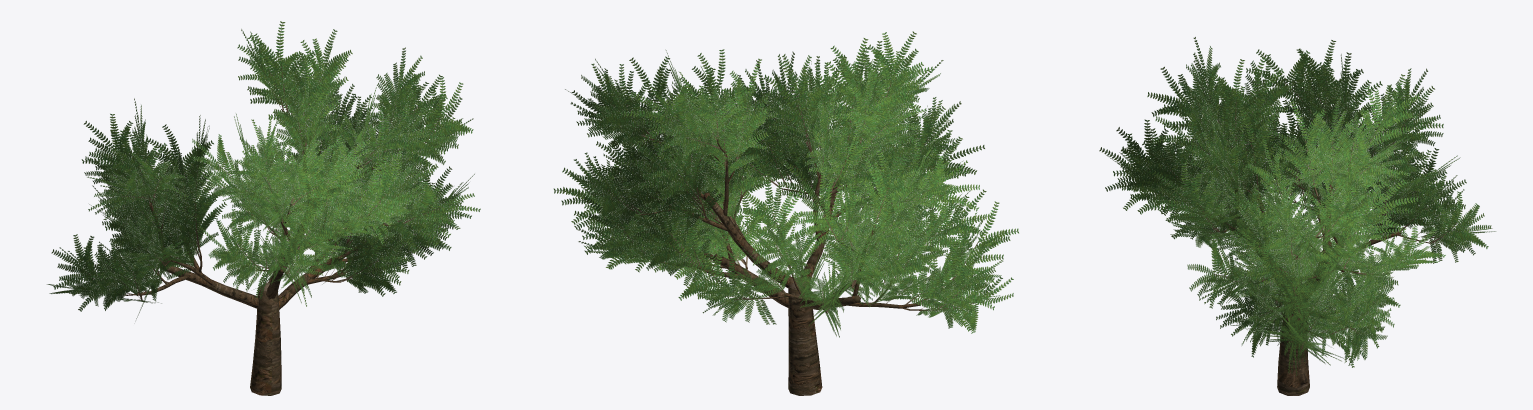
Rendered from veg_tree_rain_b.glb.
The picture shows the model from 3 angles, left to right: view 1: azimuth 30°, elevation 25°; view 2: azimuth 150°, elevation 25°; view 3: azimuth 270°, elevation 25°; orthographic projection. The views are drawn at different scales.
Parts seen in each view (by area): view 1: Leaves, Trunk; view 2: Leaves, Trunk; view 3: Leaves, Trunk.
Boxes of the visible parts, x1,y1,x2,y2 form: Leaves: (47, 21, 480, 321); Trunk: (123, 109, 401, 395); Leaves: (553, 31, 1018, 337); Trunk: (640, 119, 946, 395); Leaves: (1099, 37, 1495, 375); Trunk: (1193, 127, 1430, 395).
Bounding box in the file's own units: 65.62 × 45.25 × 53.55.
Materials: 2 (2 with a texture image).
